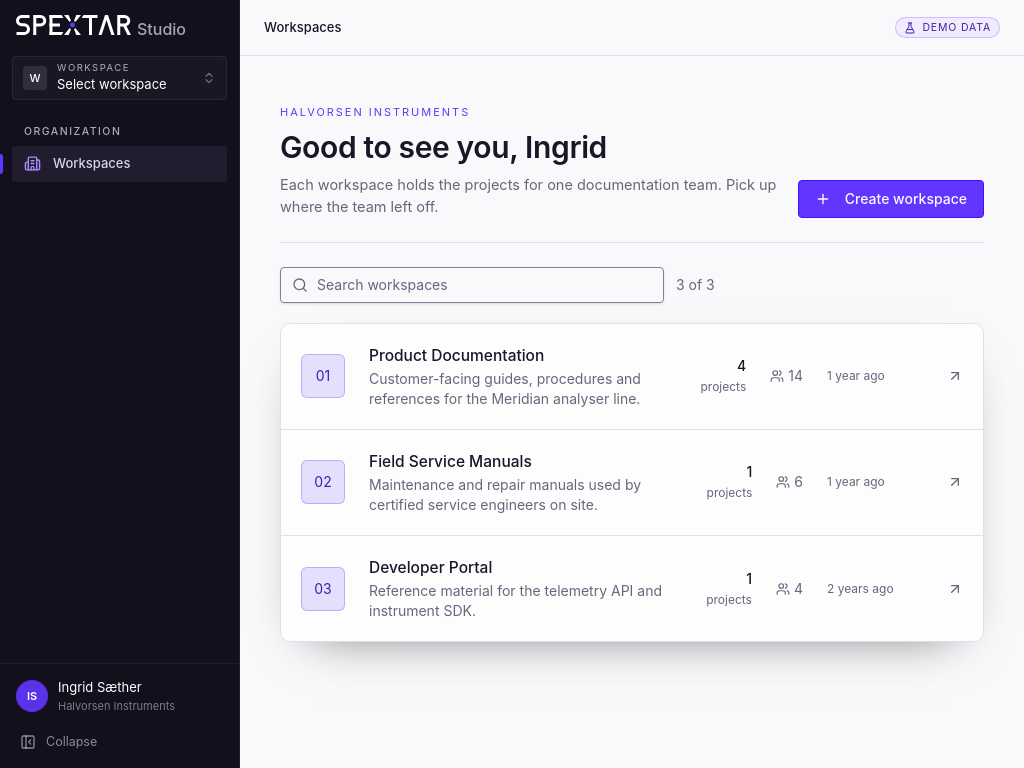
Test: approved vector lockup › uses reversed in expanded navigation and Signature X when collapsed
Expected: the link with test id "card-workspace-product-docs" is shown, [301,346,963,407]
Click the button with test id "button-toggle-nav" at [120, 742], box [8,724,231,760]
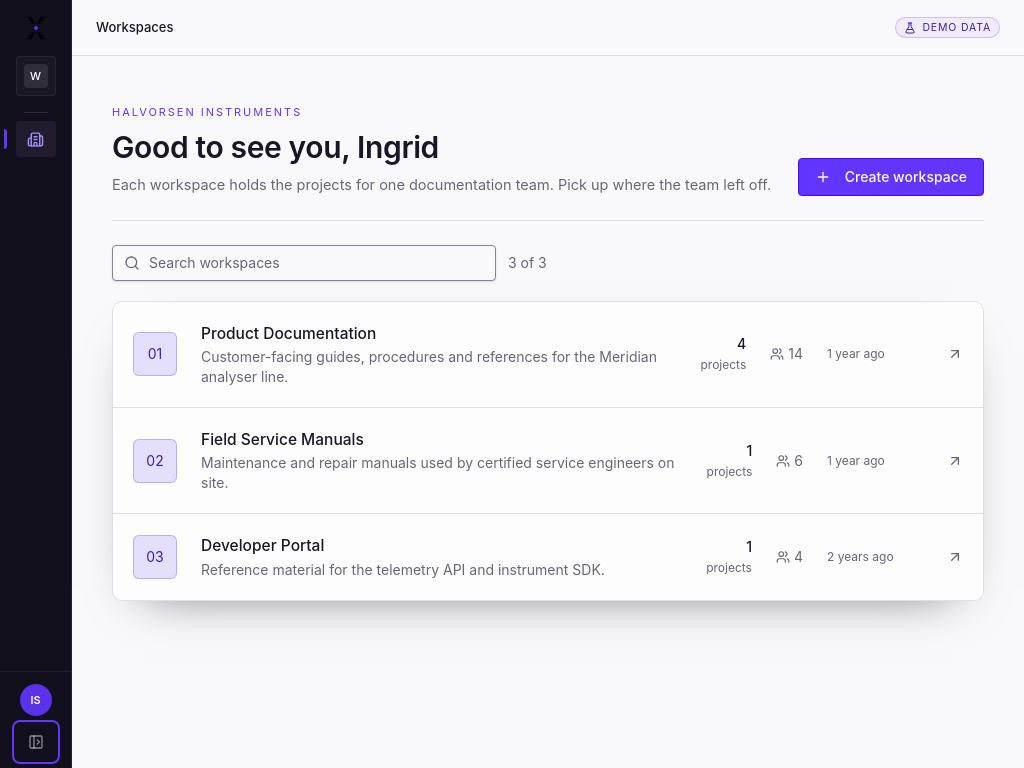
Expected: the picture with test id "spextar-vector-wordmark" is gone
